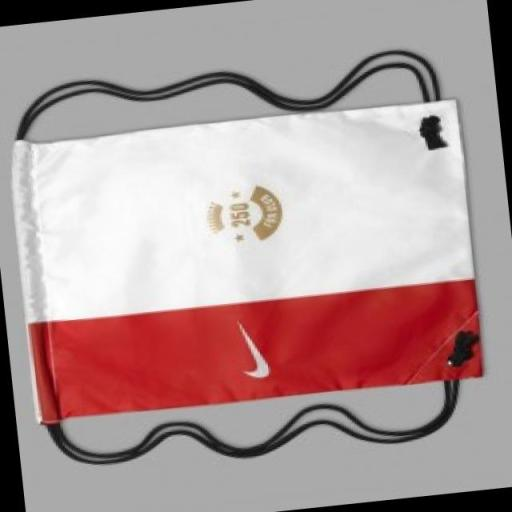Nike: (223, 311, 282, 386)
